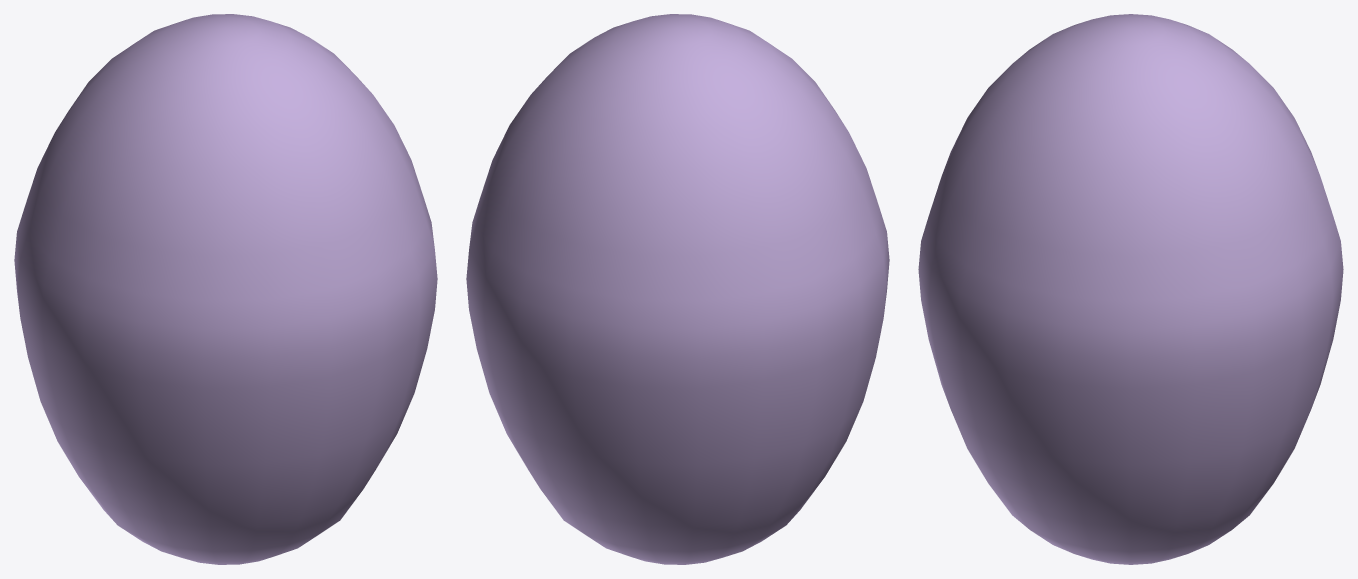
Rendered from raisin.fbx.
3 renders of one model, left to right at view 1: azimuth 30°, elevation 25°; view 2: azimuth 150°, elevation 25°; view 3: azimuth 270°, elevation 25°, orthographic.
Parts seen in each view (by area): view 1: raisin; view 2: raisin; view 3: raisin.
Boxes of the visible parts, box(x1,y1,x2,y2) form: raisin: box(14, 14, 437, 564); raisin: box(466, 14, 889, 564); raisin: box(918, 14, 1343, 564).
Bounding box in the file's own units: 2.52 × 3.41 × 2.52.
